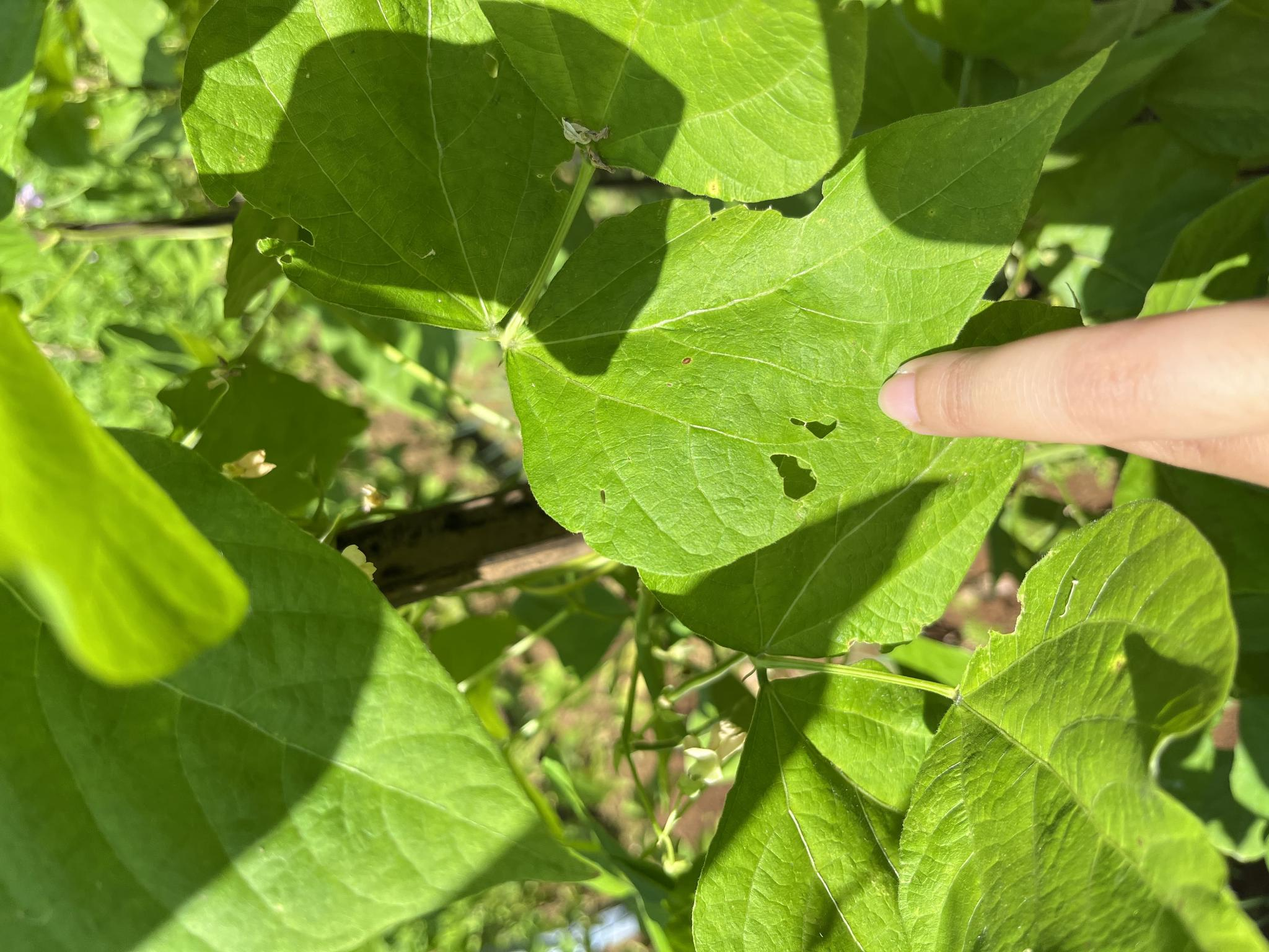mozaik: (658, 178, 852, 220), (755, 453, 835, 501), (793, 424, 848, 449)
